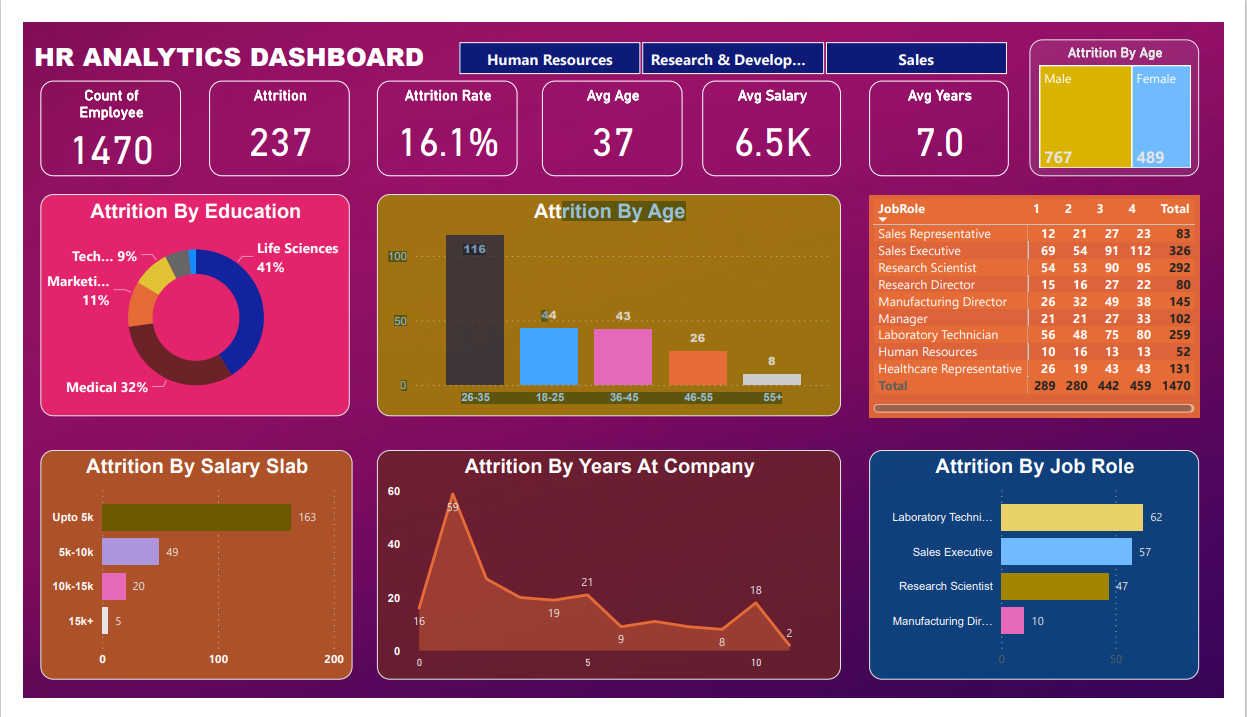

The dashboard page shown, as its layout file describes it:
{"tool":"powerbi","page":{"name":"Page 1","canvas":[1280,720],"ordinal":0},"visuals":[{"type":"card","title":"Count of Employee","fields":{"Values":["CountNonNull(HR_Analytics.EmpID)"]},"box":[17.9,61.9,150,102.3],"z":0},{"type":"card","title":"Attrition Rate","fields":{"Values":["HR_Analytics.Attrition Rate"]},"box":[377.3,61.9,150,102.3],"z":1000},{"type":"card","title":"Avg Age","fields":{"Values":["Avg(HR_Analytics.Age)"]},"box":[553.4,61.9,150,102.3],"z":2000},{"type":"card","title":"Avg Salary","fields":{"Values":["Avg(HR_Analytics.MonthlyIncome)"]},"box":[723.6,61.9,148.8,102.3],"z":3000},{"type":"card","title":"Avg Years","fields":{"Values":["Avg(HR_Analytics.YearsAtCompany)"]},"box":[902.1,61.9,148.8,102.3],"z":4000},{"type":"donutChart","title":"Attrition By Education","fields":{"Category":["HR_Analytics.EducationField"],"Y":["CountNonNull(HR_Analytics.Attrition Count)"]},"box":[17.9,183.3,329.7,236.8],"z":5000},{"type":"columnChart","title":"Attrition By Age","fields":{"Category":["HR_Analytics.AgeGroup"],"Y":["Sum(HR_Analytics.Attrition Count)"]},"box":[377.3,183.3,495.1,236.8],"z":6000},{"type":"card","title":"Attrition","fields":{"Values":["Sum(HR_Analytics.Attrition Count)"]},"box":[197.6,61.9,150,102.3],"z":8000},{"type":"barChart","title":"Attrition By Salary Slab","fields":{"Category":["HR_Analytics.SalarySlab"],"Y":["Sum(HR_Analytics.Attrition Count)"]},"box":[17.9,455.8,333.2,245.2],"z":9000},{"type":"barChart","title":"Attrition By Job Role","fields":{"Category":["HR_Analytics.JobRole"],"Y":["Sum(HR_Analytics.Attrition Count)"]},"box":[902.1,455.8,352.3,245.2],"z":10000},{"type":"areaChart","title":"Attrition By Years At Company","fields":{"Category":["HR_Analytics.YearsAtCompany"],"Y":["Sum(HR_Analytics.Attrition Count)"]},"box":[377.3,455.8,495.1,245.2],"z":11000},{"type":"treemap","title":"Attrition By Age","fields":{"Group":["HR_Analytics.Gender"],"Values":["CountNonNull(HR_Analytics.Attrition Count)"]},"box":[1073.5,17.9,180.9,146.4],"z":12000},{"type":"textbox","box":[0,11.9,439.1,50],"z":13000},{"type":"slicer","fields":{"Values":["HR_Analytics.Department"]},"box":[439.1,14.3,634.3,47.6],"z":14000},{"type":"pivotTable","fields":{"Rows":["HR_Analytics.JobRole"],"Columns":["HR_Analytics.JobSatisfaction"],"Values":["CountNonNull(HR_Analytics.Attrition Count)"]},"box":[902.1,184.5,352.3,236.8],"z":15000}]}

Visuals, with their boxes in screenshot pixels (x1, y1, x2, y2), scaled from the page's 1280x720 canvas onto the 1247x717 screenshot:
"Count of Employee" card: bbox=(17, 62, 164, 164)
"Attrition Rate" card: bbox=(368, 62, 514, 164)
"Avg Age" card: bbox=(539, 62, 685, 164)
"Avg Salary" card: bbox=(705, 62, 850, 164)
"Avg Years" card: bbox=(879, 62, 1024, 164)
"Attrition By Education" donutChart: bbox=(17, 183, 339, 418)
"Attrition By Age" columnChart: bbox=(368, 183, 850, 418)
"Attrition" card: bbox=(193, 62, 339, 164)
"Attrition By Salary Slab" barChart: bbox=(17, 454, 342, 698)
"Attrition By Job Role" barChart: bbox=(879, 454, 1222, 698)
"Attrition By Years At Company" areaChart: bbox=(368, 454, 850, 698)
"Attrition By Age" treemap: bbox=(1046, 18, 1222, 164)
textbox: bbox=(0, 12, 428, 62)
slicer - HR_Analytics.Department: bbox=(428, 14, 1046, 62)
pivotTable - HR_Analytics.JobRole x HR_Analytics.JobSatisfaction: bbox=(879, 184, 1222, 420)
